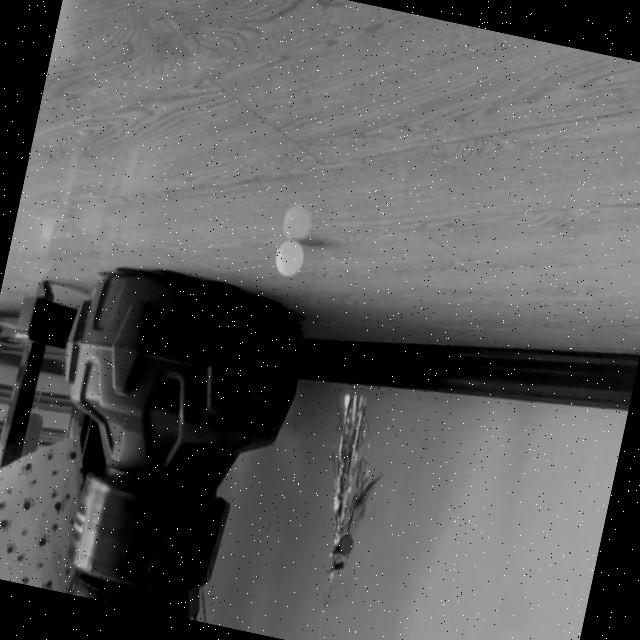ping-pong-ball: (272, 236, 306, 276)
